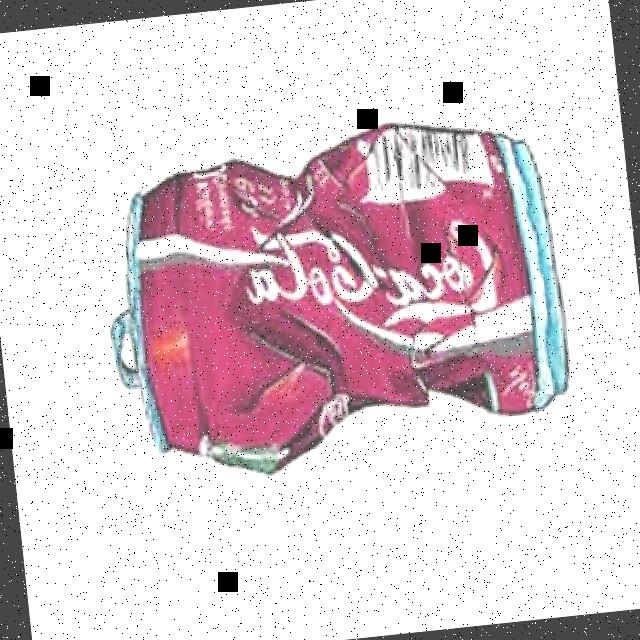can: (84, 98, 578, 490)
